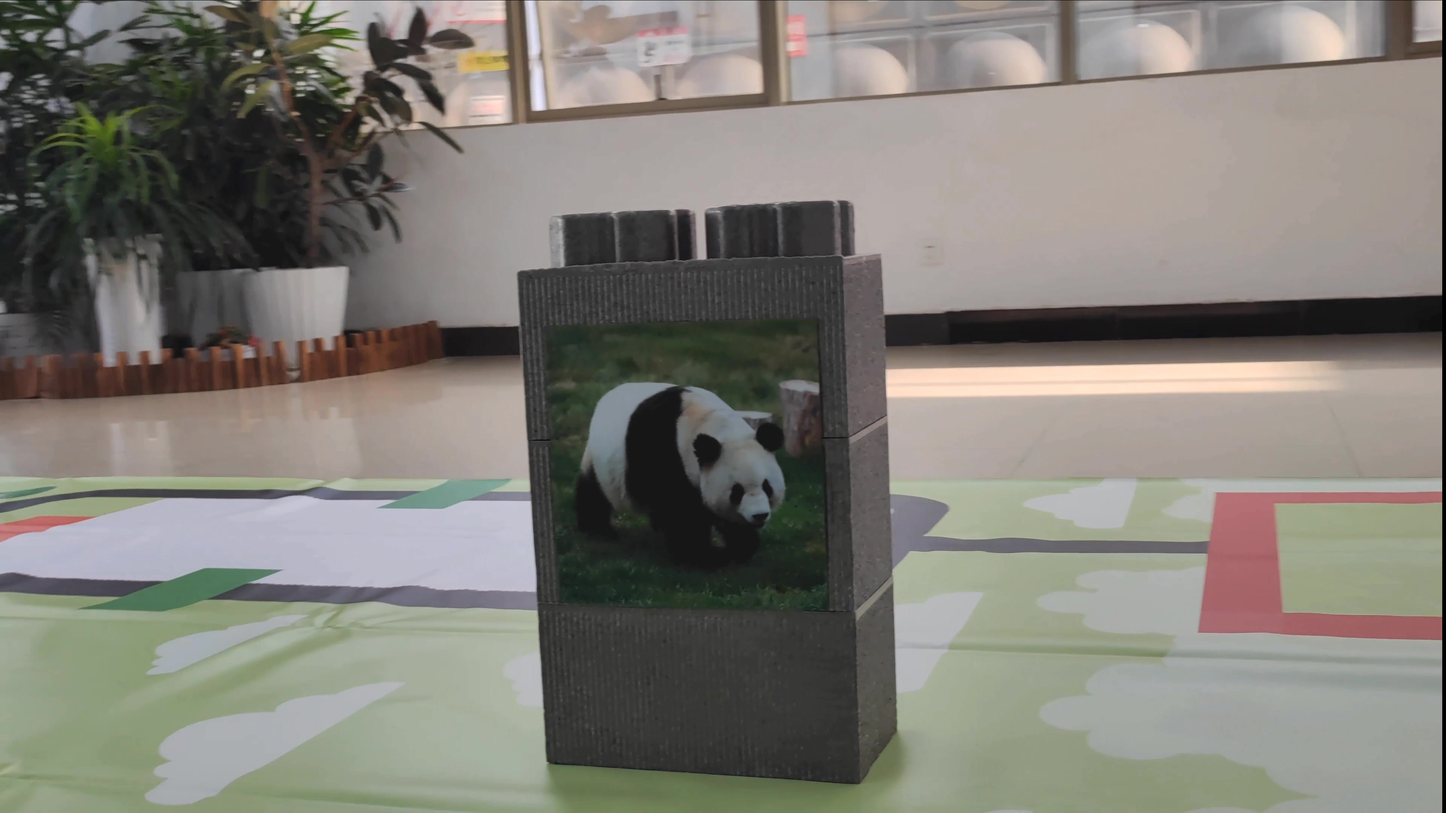panda: (563, 347, 801, 555)
